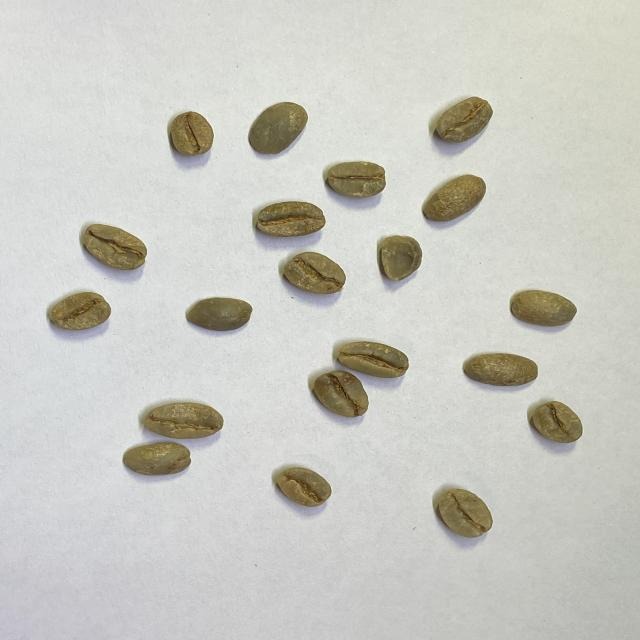bad: (432, 93, 493, 147), (378, 236, 422, 284)
good: (245, 100, 309, 158), (421, 173, 488, 226), (81, 224, 148, 272), (438, 488, 497, 539), (336, 340, 410, 380), (142, 402, 224, 438), (256, 200, 325, 240), (462, 353, 540, 388), (510, 288, 578, 328), (285, 251, 346, 295), (46, 290, 112, 330), (314, 370, 369, 418), (325, 160, 389, 200), (184, 297, 254, 332), (121, 443, 194, 476), (532, 401, 585, 446), (278, 466, 332, 508), (169, 110, 215, 158)
